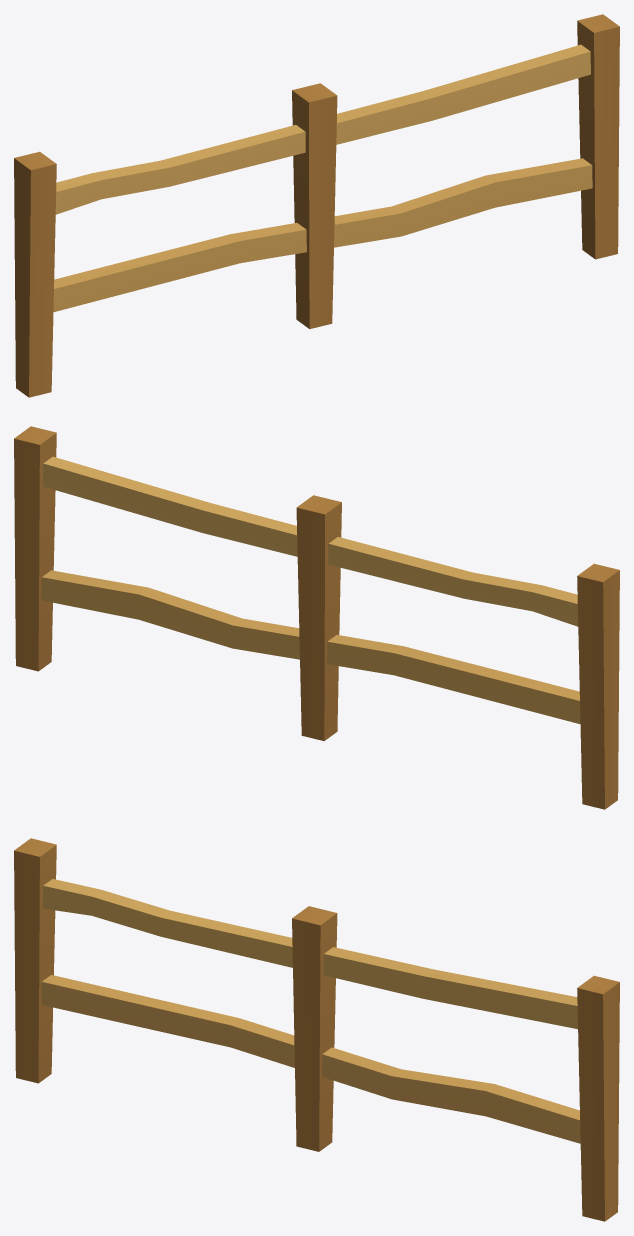
File: Wood_Fence.fbx
3 views of the same model, one above another, from view 1: azimuth 30°, elevation 25°; view 2: azimuth 150°, elevation 25°; view 3: azimuth 330°, elevation 25° (orthographic).
Parts seen in each view (by area): view 1: Wood_Fence_Gate; view 2: Wood_Fence_Gate; view 3: Wood_Fence_Gate.
Part boxes in pixels (x1,y1,x2,y2): Wood_Fence_Gate: [14, 14, 619, 397]; Wood_Fence_Gate: [14, 426, 619, 809]; Wood_Fence_Gate: [14, 838, 619, 1221].
Bounding box in the file's own units: 3.13 × 1.16 × 0.1554.
